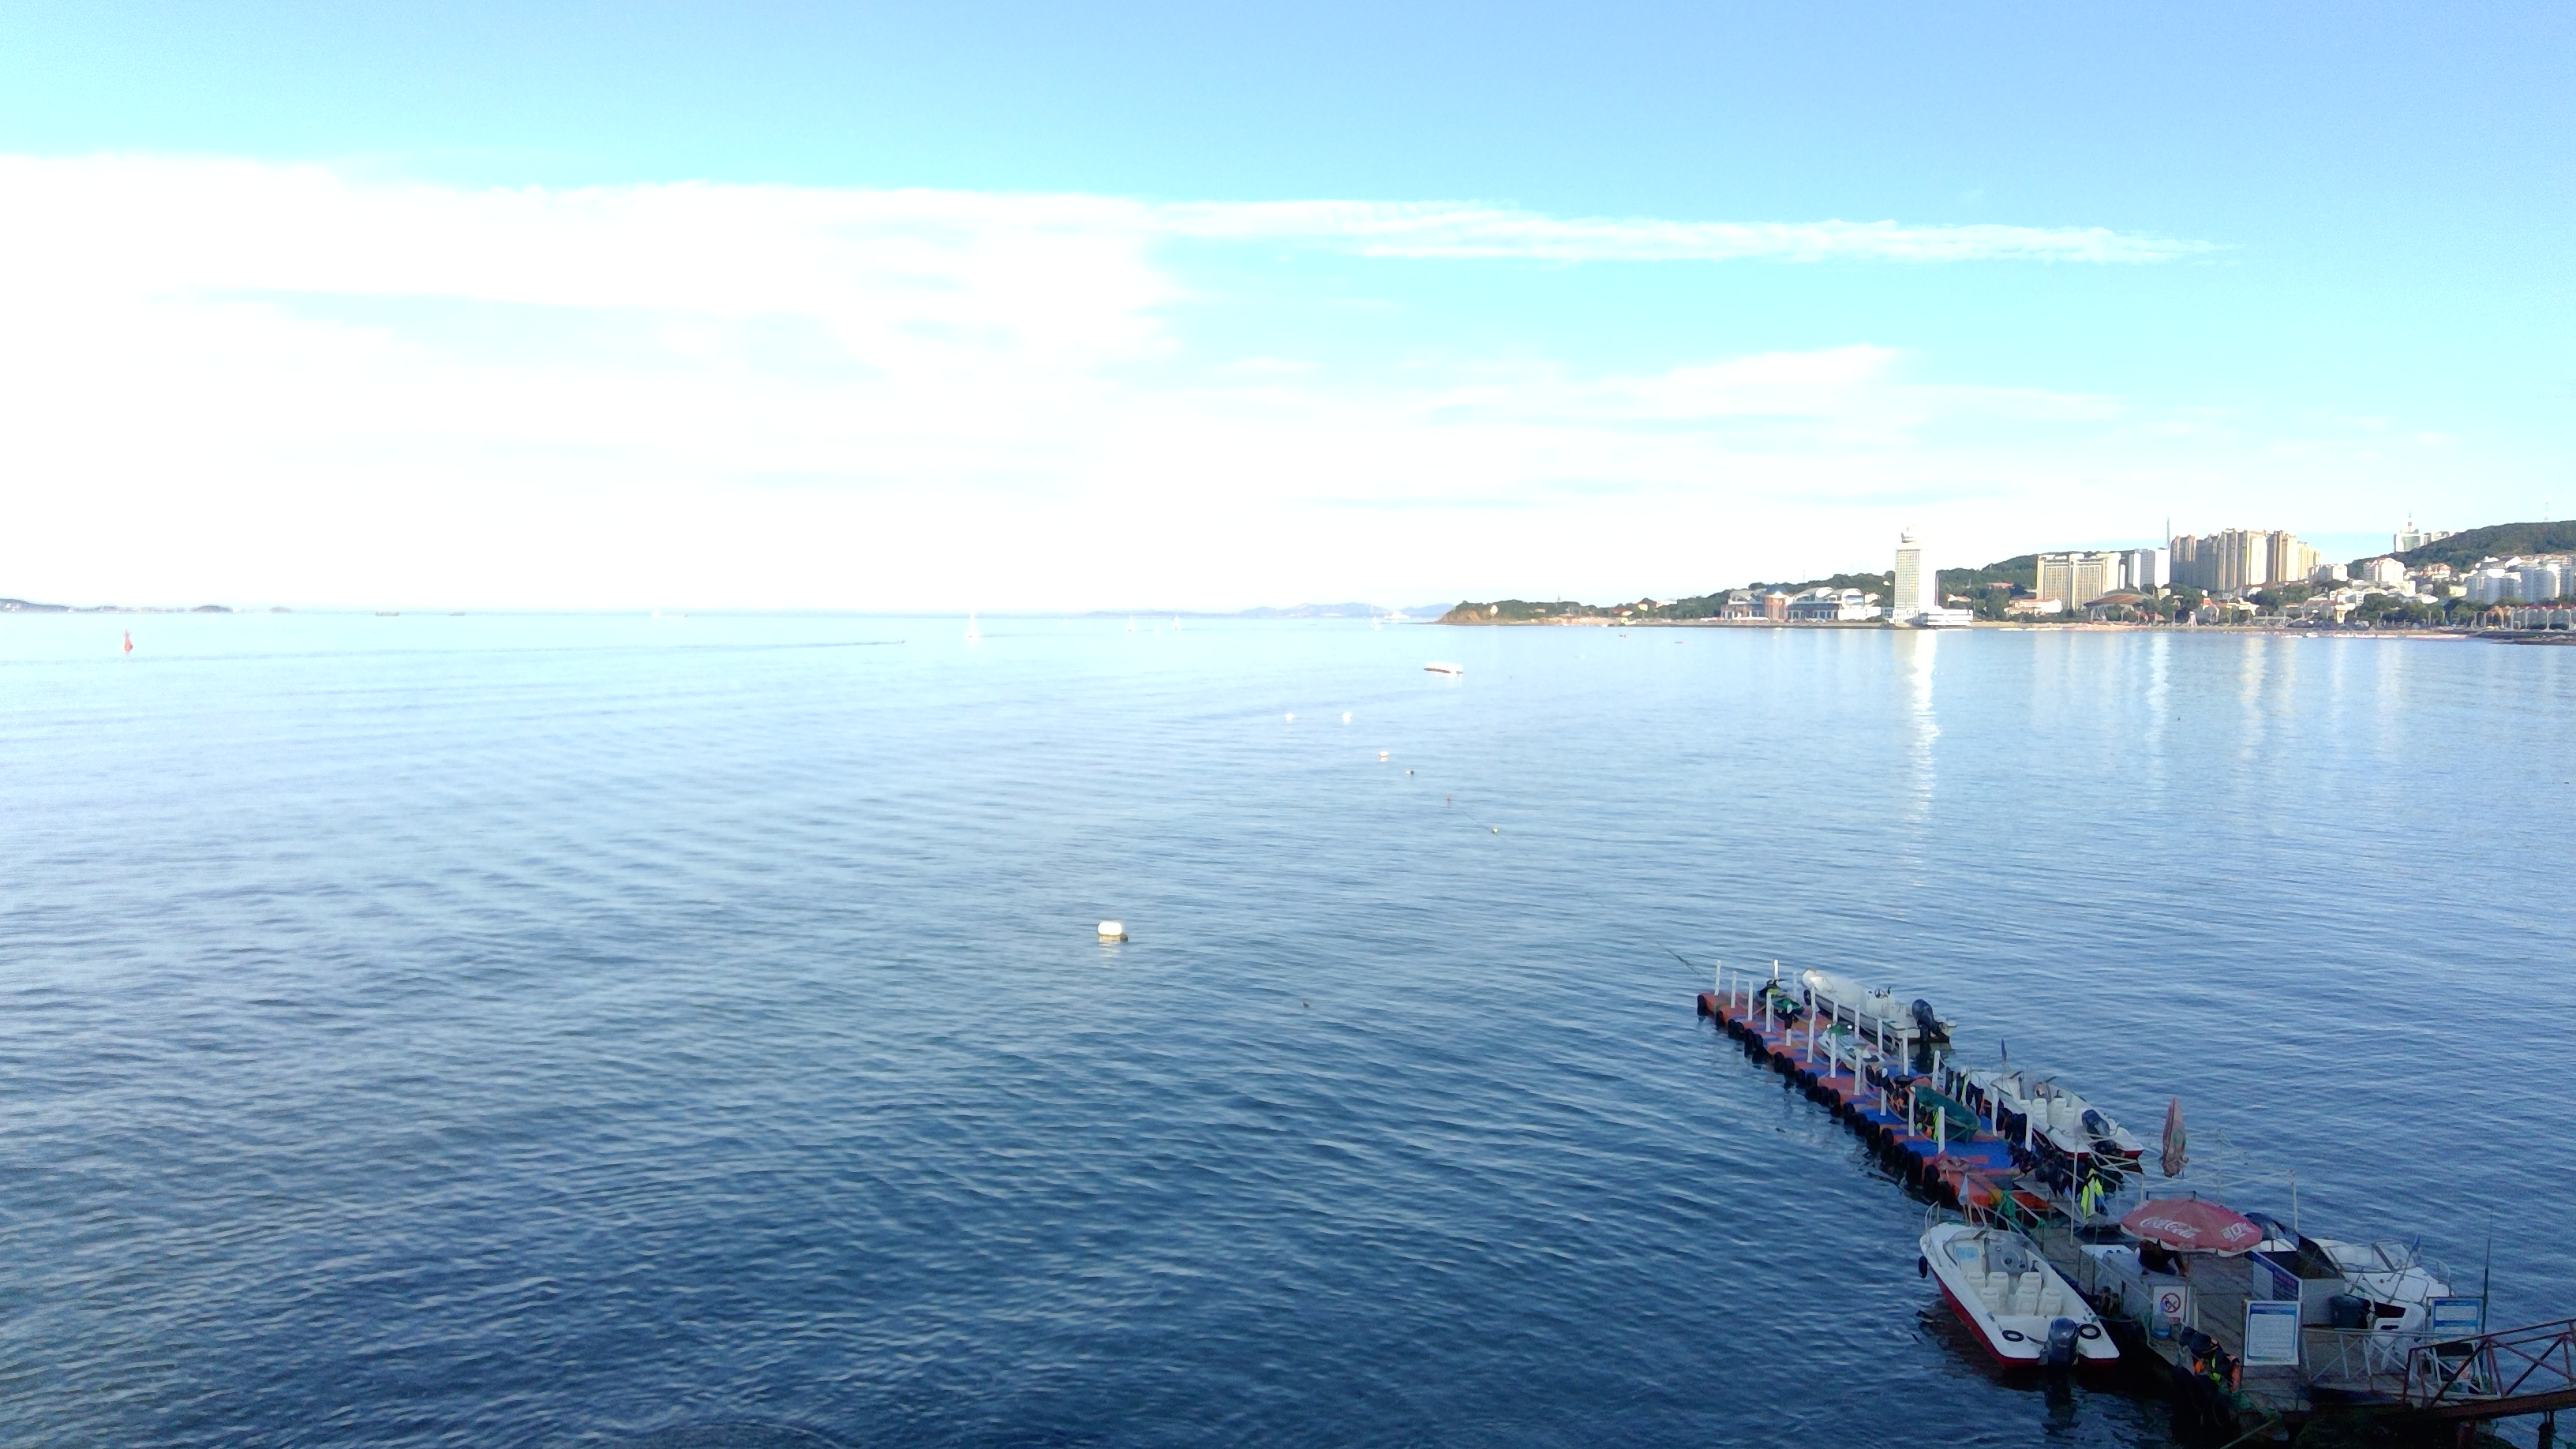ball: (1093, 911, 1143, 954)
boat: (1888, 1208, 2143, 1392)
harbor: (1658, 922, 2247, 1244)
